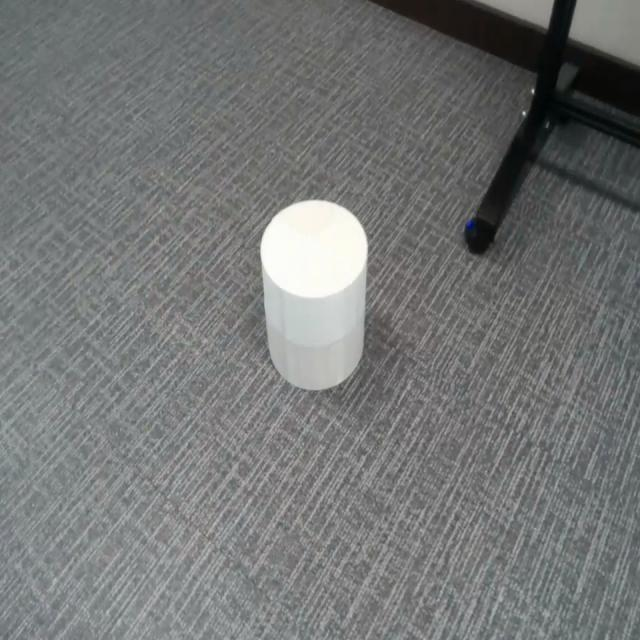cylinder: (260, 199, 369, 391)
